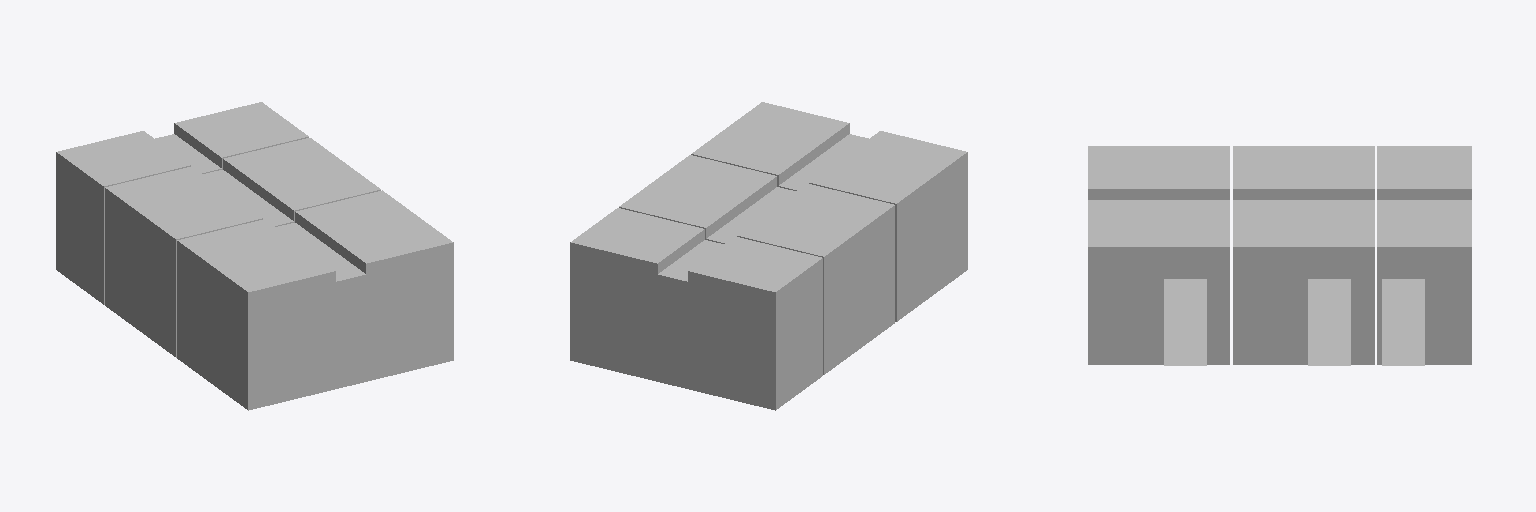
Rendered from hor1 room2.obj.
3 views of the same model, side by side, from view 1: azimuth 30°, elevation 25°; view 2: azimuth 150°, elevation 25°; view 3: azimuth 270°, elevation 25° (orthographic).
Parts seen in each view (by area): view 1: Plane; view 2: Plane; view 3: Plane.
Part boxes in pixels (bbox=[...]): Plane: bbox=[56, 102, 453, 410]; Plane: bbox=[570, 102, 967, 410]; Plane: bbox=[1088, 146, 1471, 365].
Size of the model in its own units: 5.05 by 2.75 by 8.1.